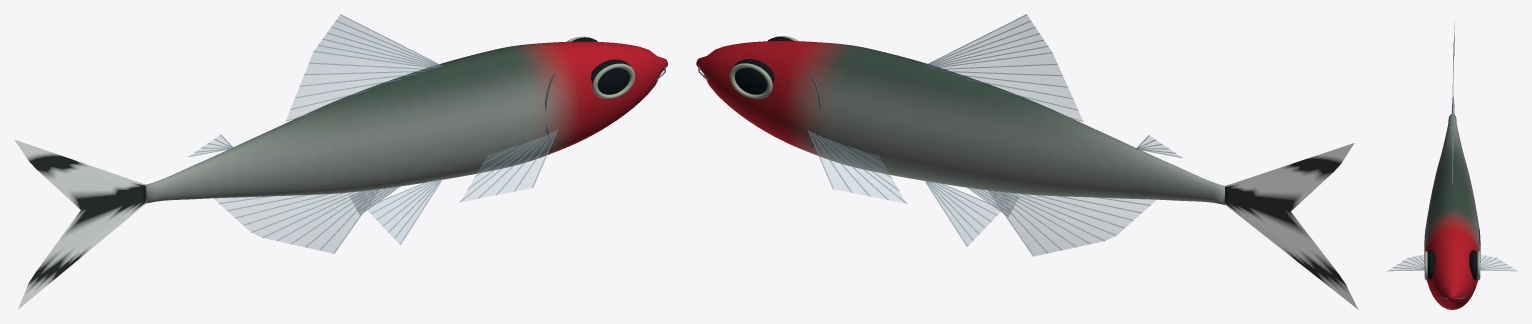
File: rummy-nose.glb
3 views of the same model, side by side, from view 1: azimuth 30°, elevation 25°; view 2: azimuth 150°, elevation 25°; view 3: azimuth 270°, elevation 25° (orthographic). The views are drawn at different scales.
Parts seen in each view (by area): view 1: Rummy-nose body, Forked caudal fin, Dorsal fin, Anal fin, Pectoral fin -1, Pelvic fin -1, Dark eye -1, Iridescent iris -1; view 2: Rummy-nose body, Forked caudal fin, Dorsal fin, Anal fin, Pectoral fin 1, Pelvic fin 1, Dark eye 1, Iridescent iris 1; view 3: Rummy-nose body, Pectoral fin 1, Pectoral fin -1, Dark eye 1, Dark eye -1, Dorsal fin ray 00, Forked caudal fin, Iridescent iris 1, Iridescent iris -1.
Part boxes in pixels (bbox=[...]): Rummy-nose body: bbox=[145, 41, 667, 203]; Forked caudal fin: bbox=[14, 139, 145, 309]; Dorsal fin: bbox=[286, 15, 439, 120]; Anal fin: bbox=[214, 189, 378, 253]; Pectoral fin -1: bbox=[461, 131, 555, 201]; Pelvic fin -1: bbox=[366, 180, 440, 243]; Dark eye -1: bbox=[591, 59, 629, 94]; Iridescent iris -1: bbox=[592, 63, 635, 98]; Rummy-nose body: bbox=[696, 41, 1225, 204]; Forked caudal fin: bbox=[1224, 143, 1358, 309]; Dorsal fin: bbox=[926, 15, 1082, 120]; Anal fin: bbox=[989, 191, 1155, 255]; Pectoral fin 1: bbox=[809, 131, 905, 202]; Pelvic fin 1: bbox=[926, 181, 1002, 246]; Dark eye 1: bbox=[734, 59, 774, 94]; Iridescent iris 1: bbox=[729, 63, 772, 99]; Rummy-nose body: bbox=[1424, 114, 1480, 309]; Pectoral fin 1: bbox=[1481, 255, 1515, 270]; Pectoral fin -1: bbox=[1389, 255, 1423, 270]; Dark eye 1: bbox=[1469, 250, 1477, 279]; Dark eye -1: bbox=[1427, 250, 1435, 279]; Dorsal fin ray 00: bbox=[1452, 94, 1453, 183]; Forked caudal fin: bbox=[1451, 21, 1454, 113]; Iridescent iris 1: bbox=[1477, 251, 1480, 279]; Iridescent iris -1: bbox=[1424, 251, 1427, 279].
Bounding box in the file's own units: 2.16 × 0.7562 × 0.5244.
